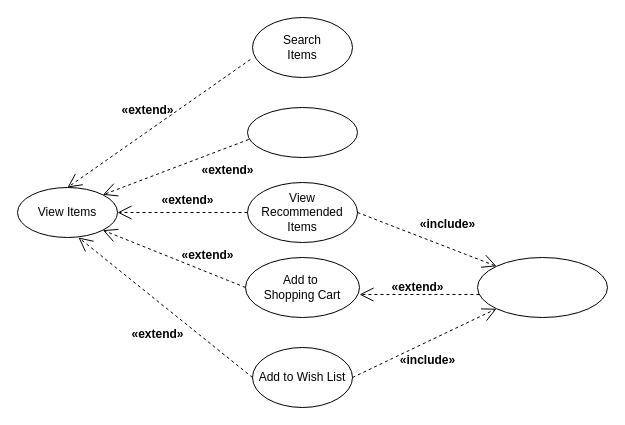
This 625x425 diagram has some shape labels left out. Here are the shapes that lost their labels. From the top down, the centre of each, then its label:
pixel 302 132: Browse Items
pixel 542 287: Customer Authentication
